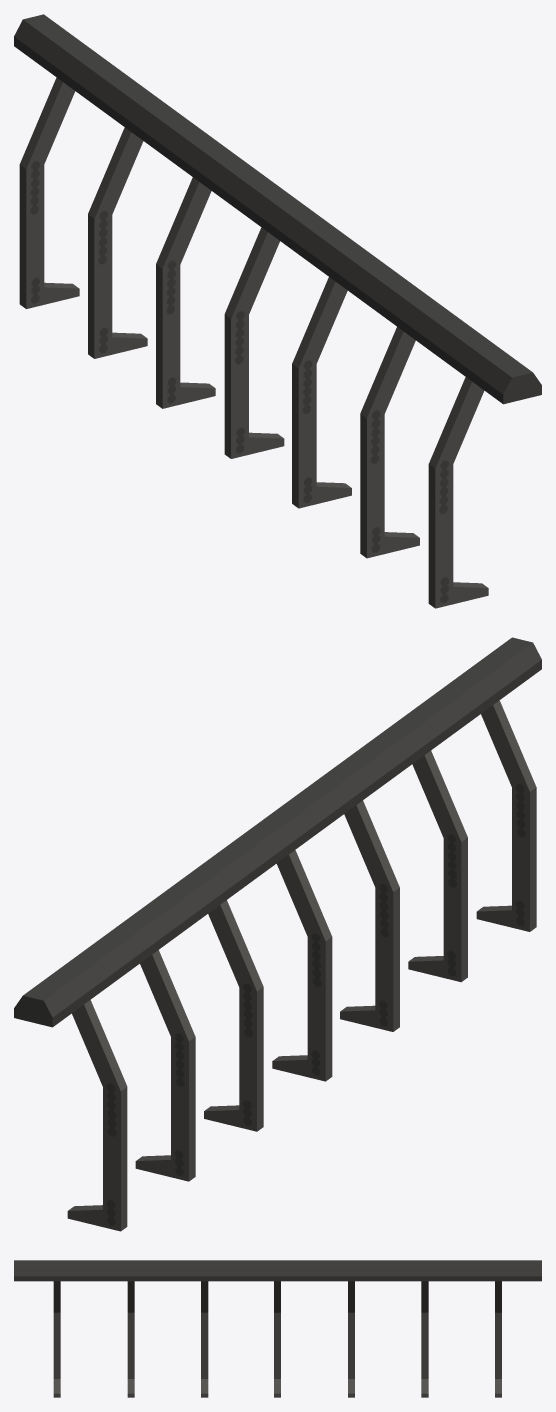
Rendered from railing.obj.
3 views of the same model, one above another, from view 1: azimuth 30°, elevation 25°; view 2: azimuth 150°, elevation 25°; view 3: azimuth 270°, elevation 25° (orthographic). The views are drawn at different scales.
Visible parts, largest first — view 1: Cube.009, Cube.016, Cube.015, Cube.008, Cube.011, Cube.013, Cube.014, Cube.012; view 2: Cube.009, Cube.008, Cube.015, Cube.016, Cube.012, Cube.011, Cube.013, Cube.014; view 3: Cube.009, Cube.012, Cube.013, Cube.014, Cube.015, Cube.008, Cube.011, Cube.016.
Boxes of the visible parts, x1,y1,x2,y2 form: Cube.009: (14,14,541,404); Cube.016: (19,77,79,308); Cube.015: (428,377,488,608); Cube.008: (224,227,284,458); Cube.011: (156,177,215,408); Cube.013: (292,277,351,508); Cube.014: (360,327,419,558); Cube.012: (88,127,147,358); Cube.009: (14,637,541,1027); Cube.008: (272,850,332,1081); Cube.015: (476,700,536,931); Cube.016: (67,1000,127,1231); Cube.012: (135,950,195,1181); Cube.011: (204,900,263,1131); Cube.013: (340,800,399,1031); Cube.014: (408,750,467,982); Cube.009: (14,1260,541,1281); Cube.012: (421,1281,428,1397); Cube.013: (201,1281,208,1397); Cube.014: (127,1281,134,1397); Cube.015: (53,1281,60,1397); Cube.008: (274,1281,280,1397); Cube.011: (348,1281,354,1397); Cube.016: (495,1281,501,1397).
Bounding box in the file's own units: 0.5924 × 2.01 × 7.18.
8 materials, 8 textured.
